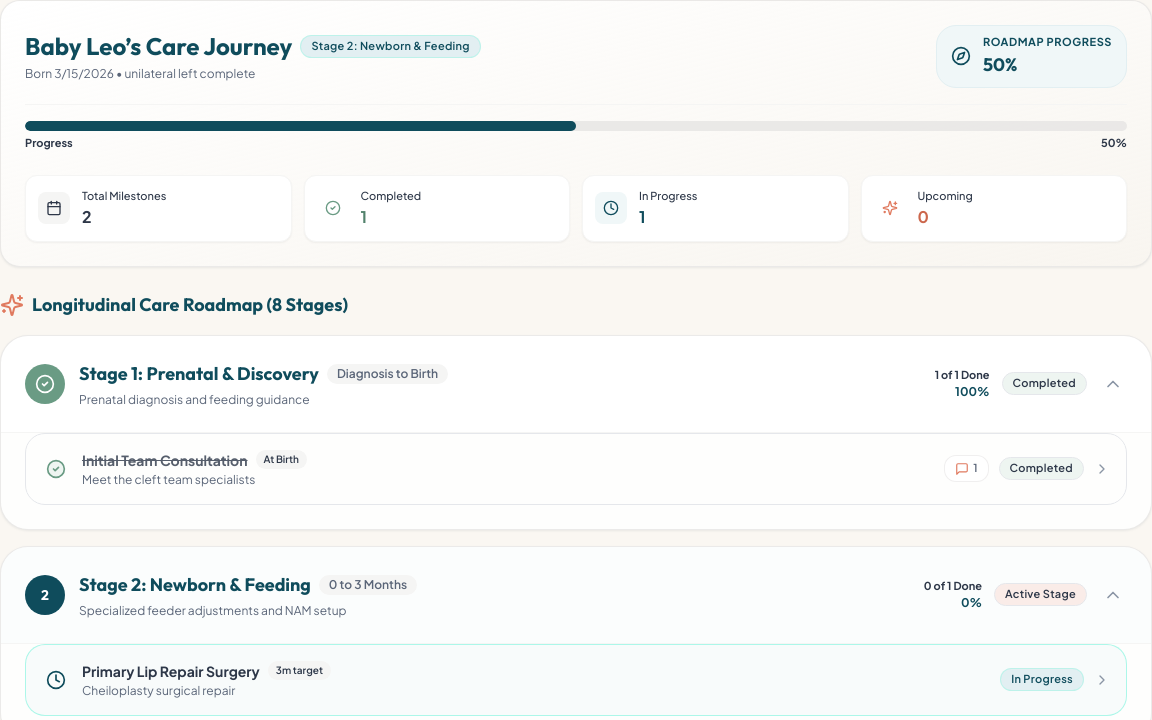
Scenario: JourneyPage Component › opens milestone detail modal when a milestone is clicked
Click the heading "Initial Team Consultation" at (165, 460), box 82,450 -> 248,470
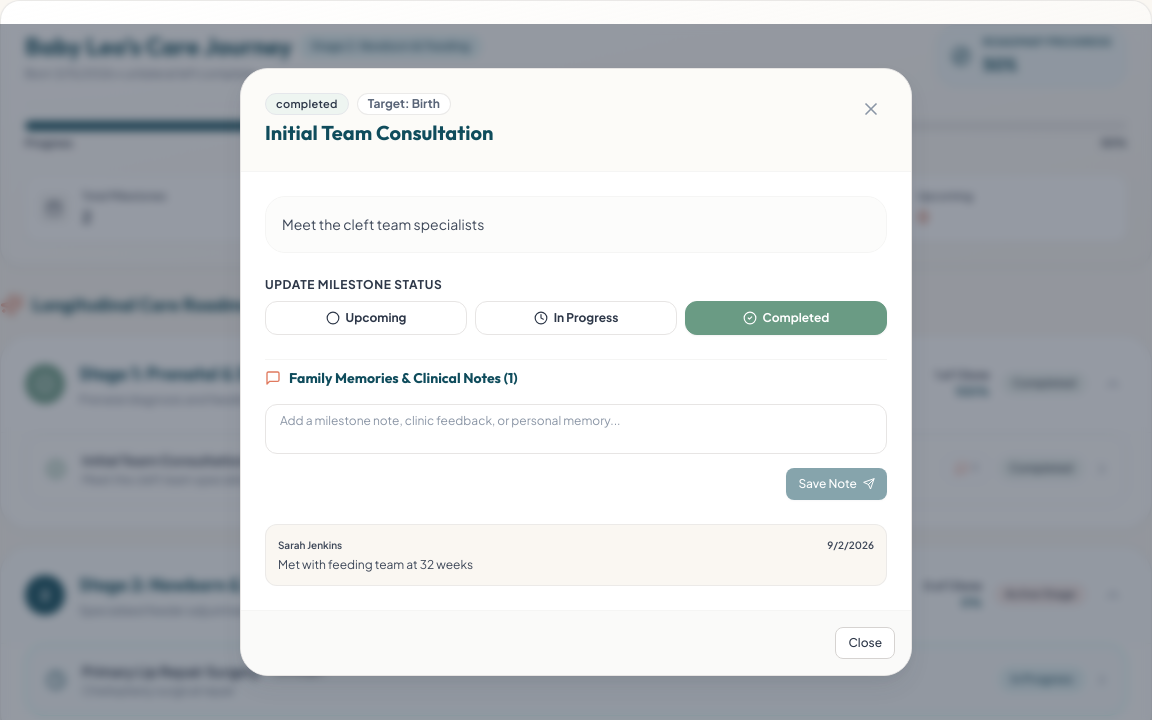
Now the text "Update Milestone Status" is shown, box 265,277 -> 442,292
Now the heading "Family Memories & Clinical Notes (1)" is shown, box 289,368 -> 518,388
Now the text "Met with feeding team at 32 weeks" is shown, box 278,557 -> 473,572
